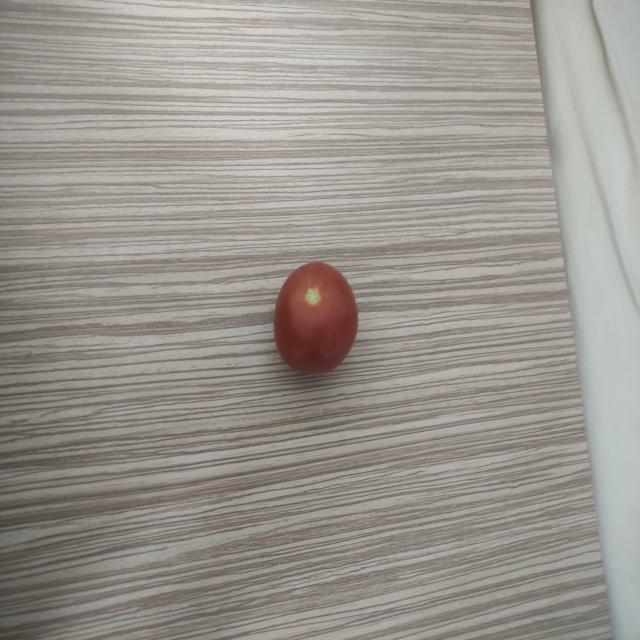kirmizi: (259, 252, 378, 389)
